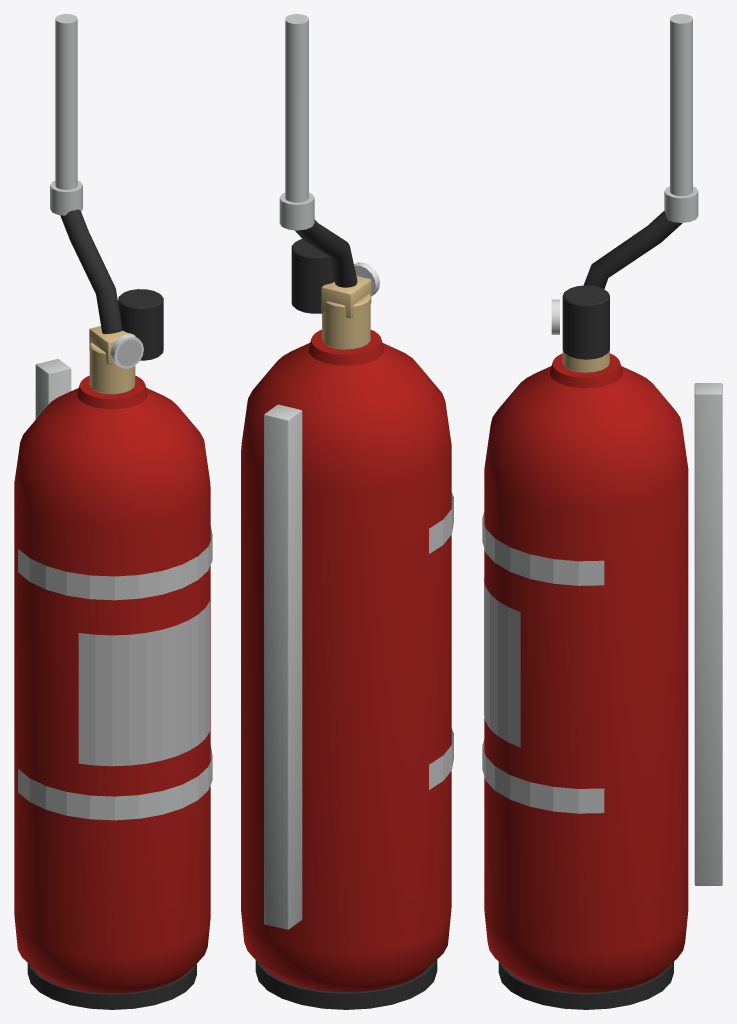
The model's file is Kit_HalonCylinder.fbx.
The picture shows the model from 3 angles, left to right: view 1: azimuth 30°, elevation 25°; view 2: azimuth 150°, elevation 25°; view 3: azimuth 270°, elevation 25°; orthographic projection. The views are drawn at different scales.
Parts seen in each view (by area): view 1: Kit_HalonCylinder_LOD0; view 2: Kit_HalonCylinder_LOD0; view 3: Kit_HalonCylinder_LOD0.
Boxes of the visible parts, x1,y1,x2,y2 form: Kit_HalonCylinder_LOD0: (14,14,212,1009); Kit_HalonCylinder_LOD0: (241,14,453,1009); Kit_HalonCylinder_LOD0: (482,14,722,1009).
Size of what is drawn, in the model's own units: 0.3051 by 1.55 by 0.3535.
